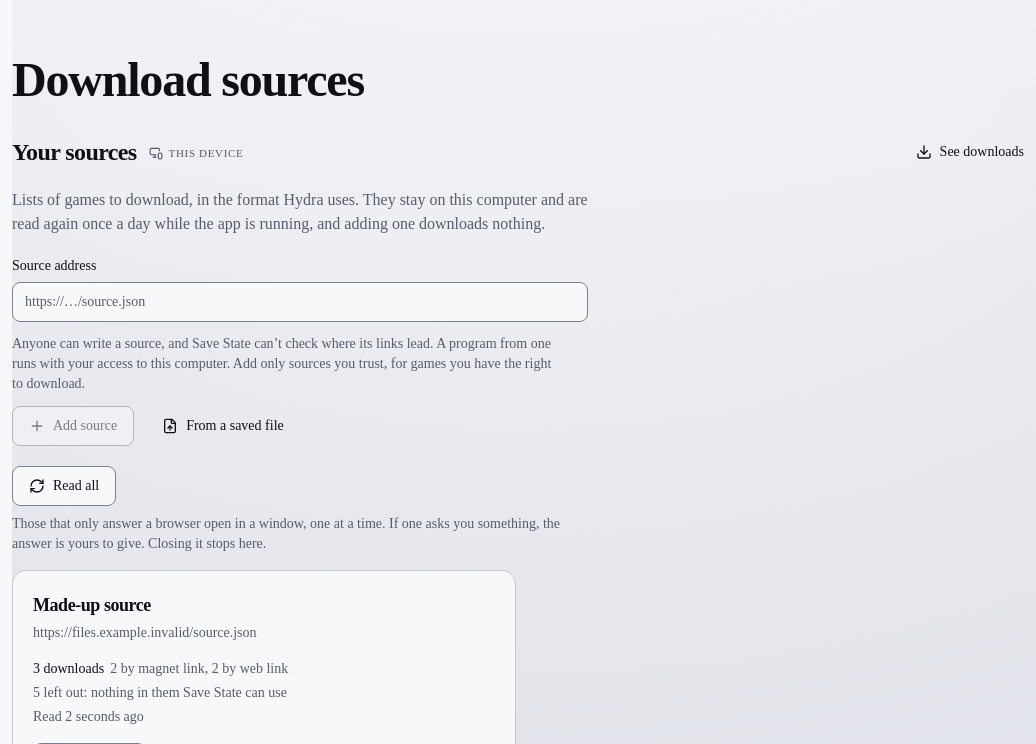
Scenario: download sources › reads them all when asked, saying what it will open
Check: the text "open in a window, one at a time" is shown, box top-left (12, 516), bottom-right (560, 551)
Click the button "Read all". click: [64, 486]
box: top-left (12, 466), bottom-right (116, 506)
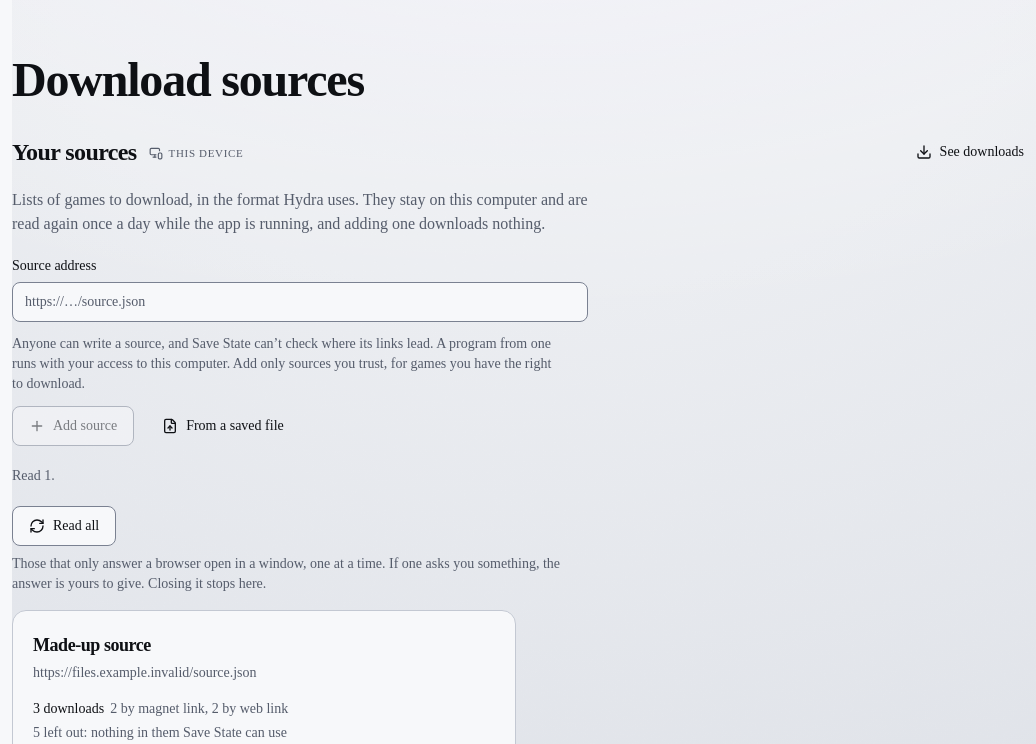
Check: the message reads "Read 1.", box top-left (12, 468), bottom-right (55, 483)
